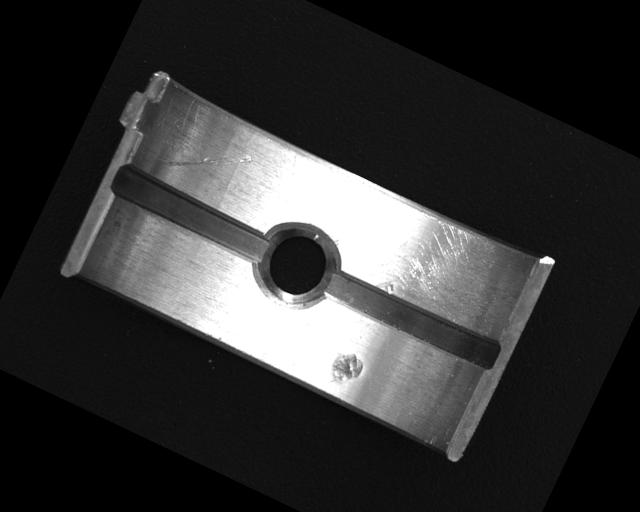bruise: (324, 347, 368, 394)
gap: (315, 260, 504, 375), (106, 163, 272, 266)
hole: (244, 208, 350, 318)
nick: (160, 120, 256, 200)
scratch: (337, 181, 529, 340)
